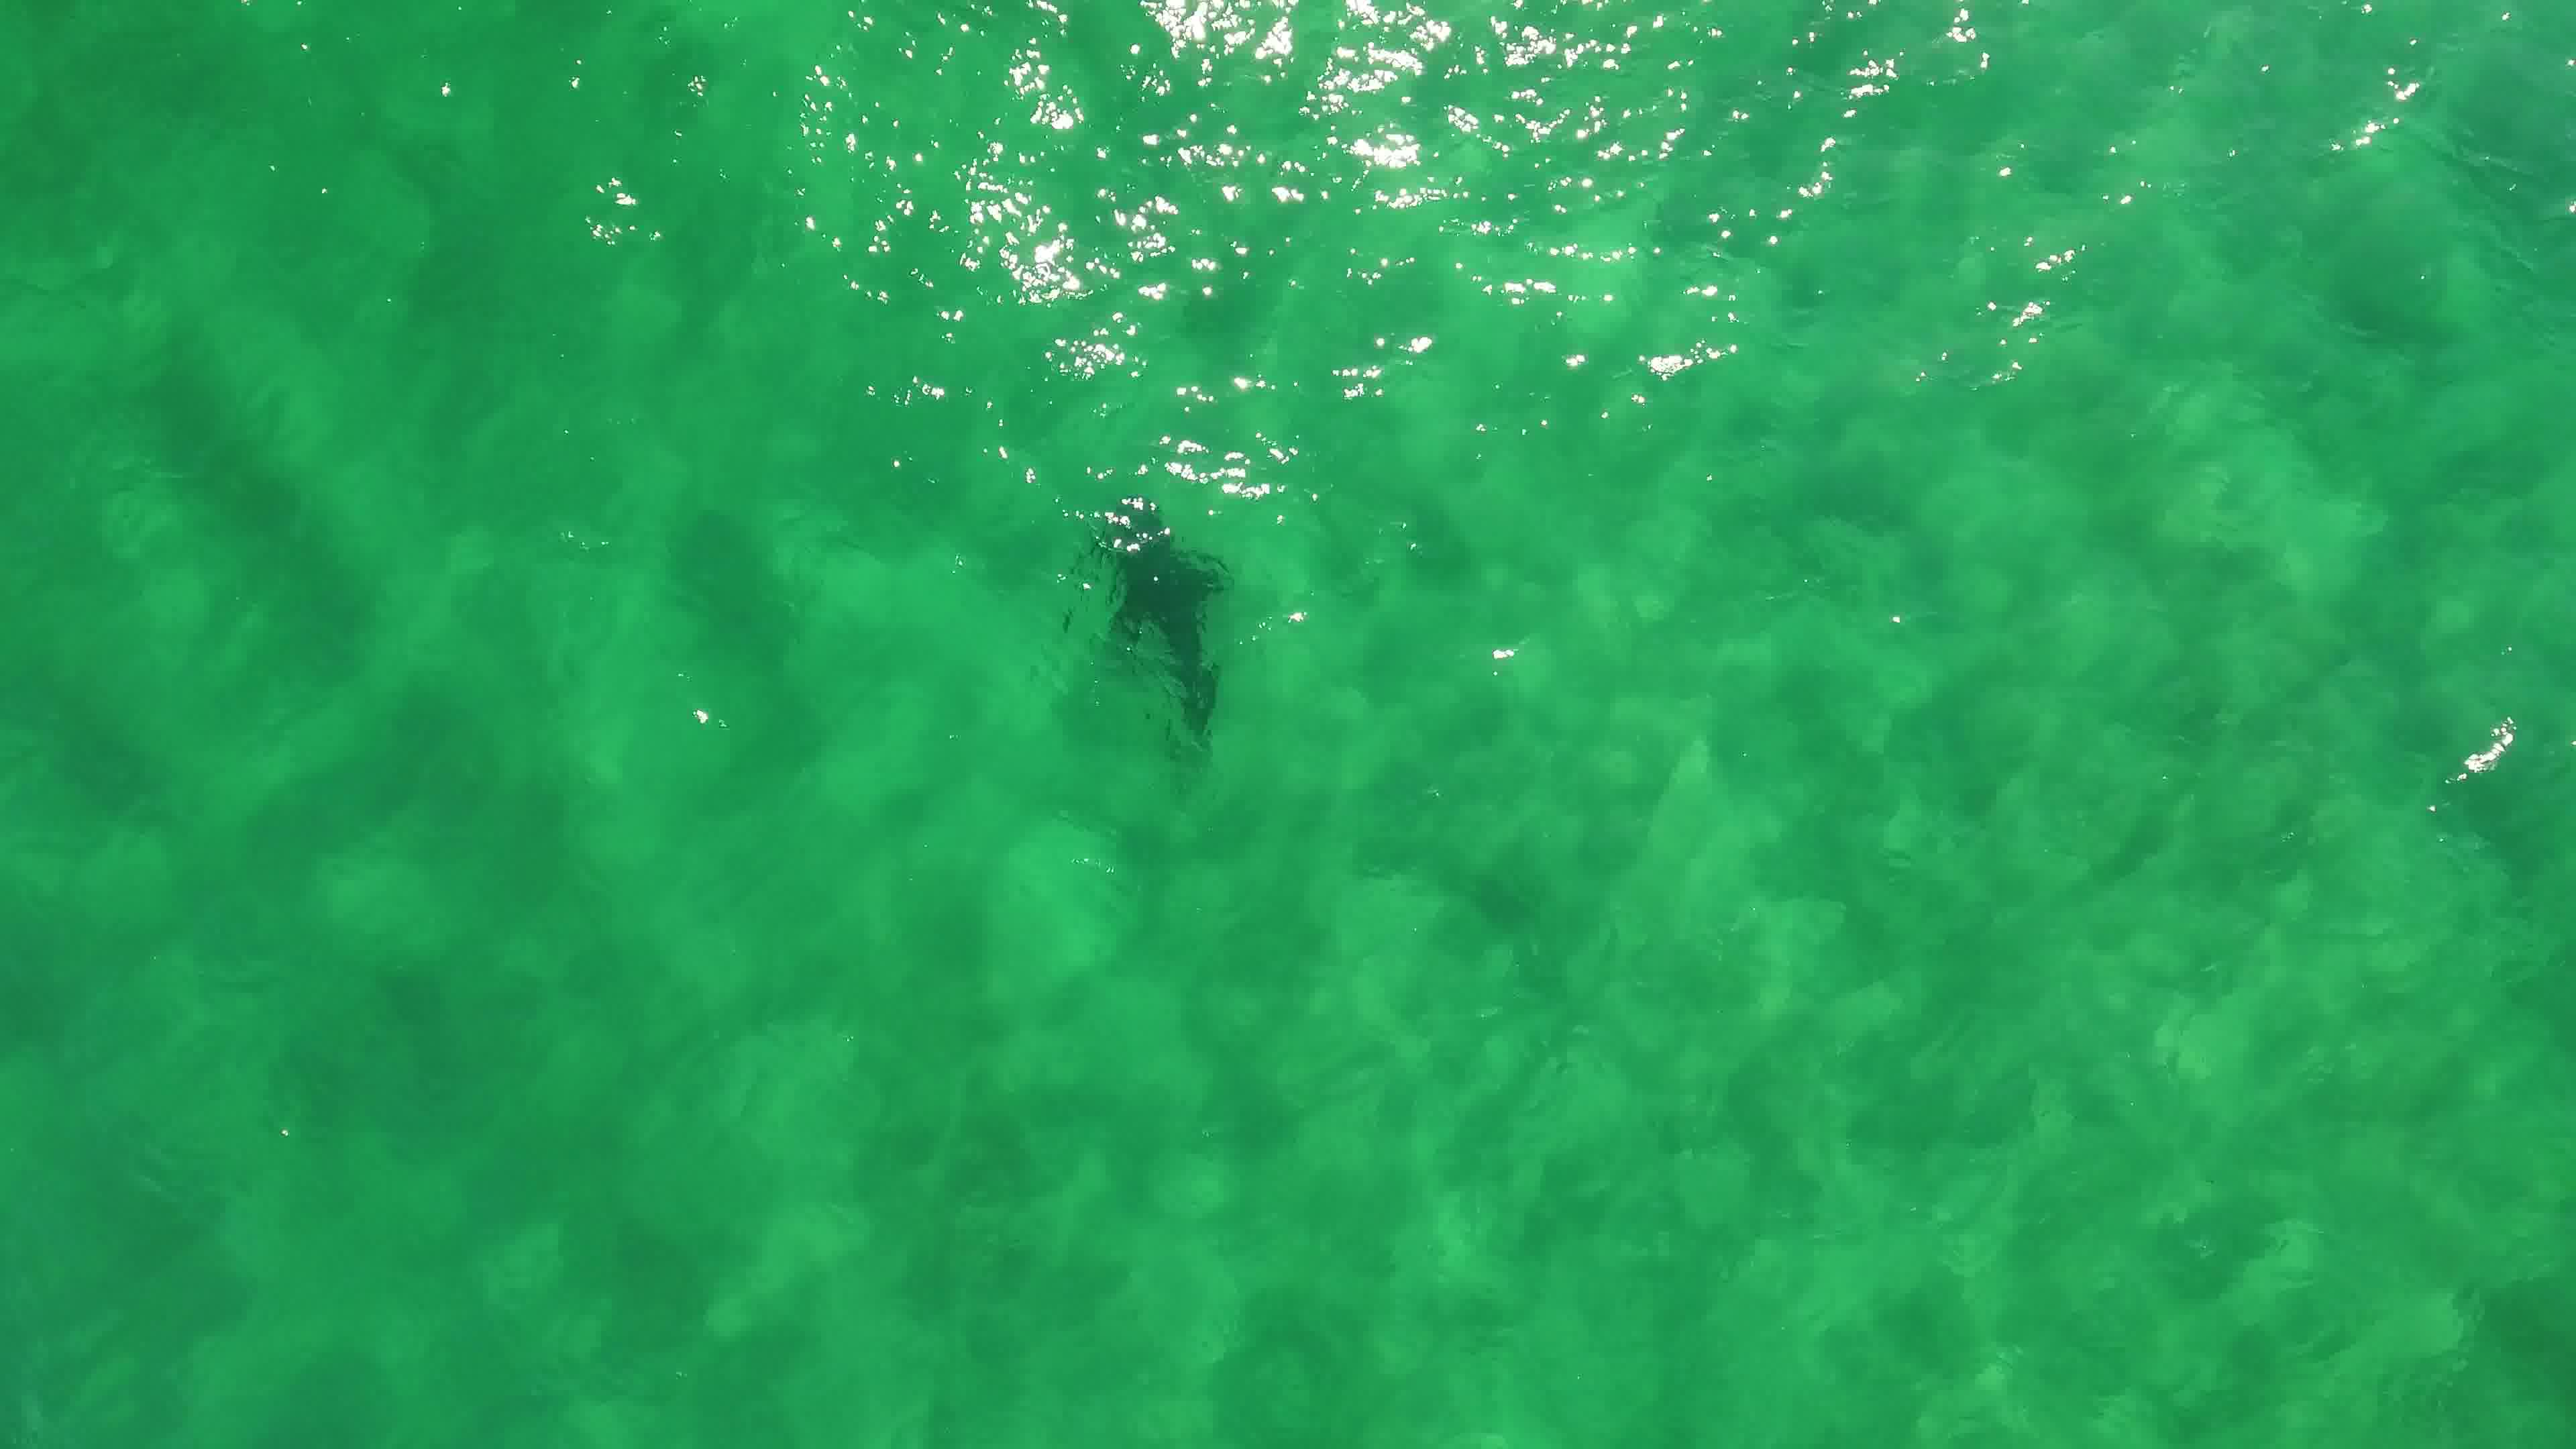shark: (1090, 494, 1233, 752)
